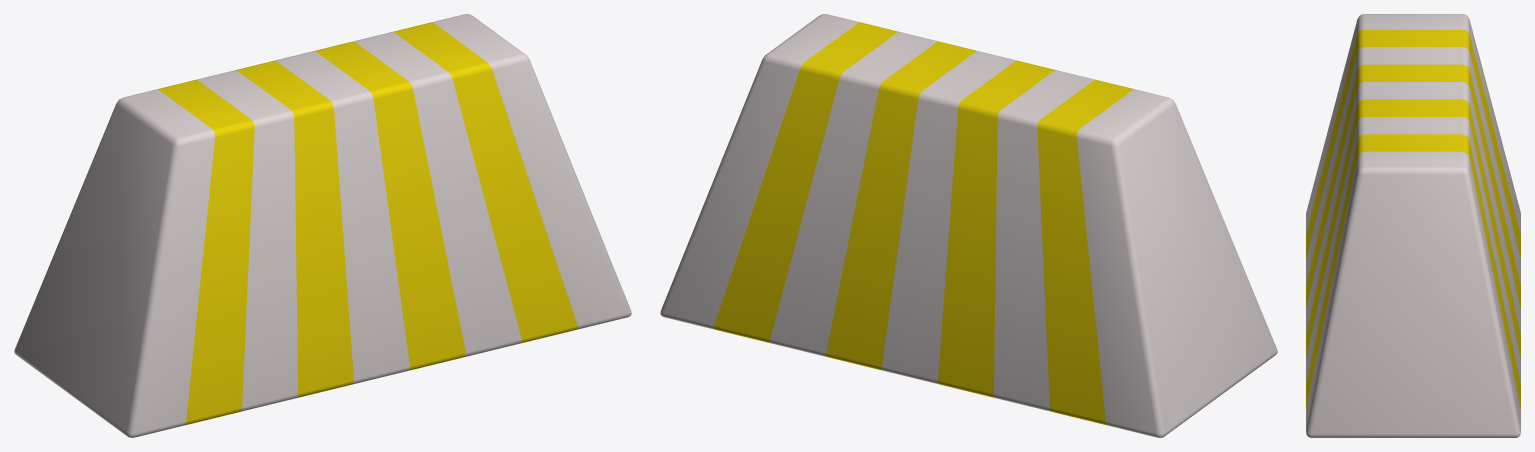
Rendered from ConcretBlockAlert.fbx.
The picture shows the model from 3 angles, left to right: view 1: azimuth 30°, elevation 25°; view 2: azimuth 150°, elevation 25°; view 3: azimuth 270°, elevation 25°; orthographic projection. The views are drawn at different scales.
Visible parts, largest first — view 1: ConcretBlockAlert; view 2: ConcretBlockAlert; view 3: ConcretBlockAlert.
Part boxes in pixels (x1,y1,x2,y2): ConcretBlockAlert: [14, 14, 631, 437]; ConcretBlockAlert: [660, 14, 1277, 437]; ConcretBlockAlert: [1306, 14, 1520, 437].
Bounding box in the file's own units: 1.99 × 0.9802 × 0.8063.
